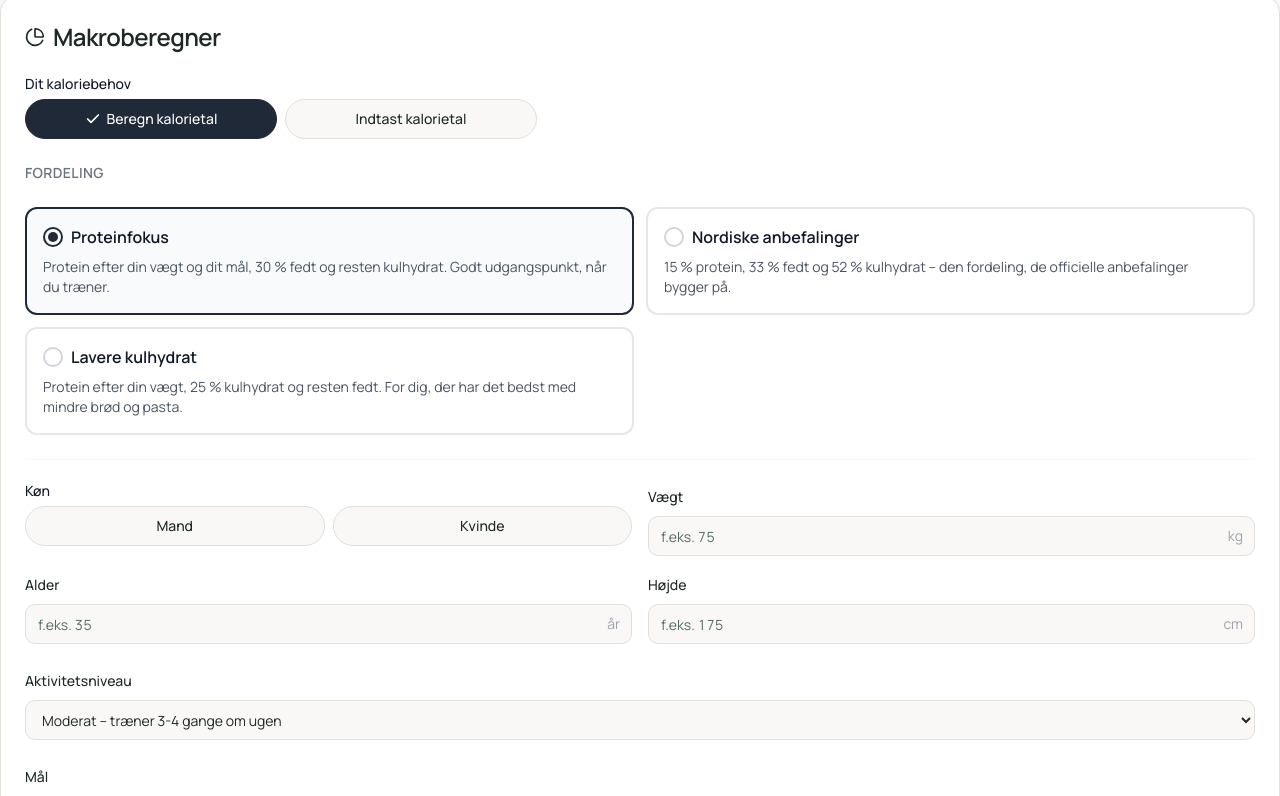
MacroCalculator › splits a known calorie target into grams and per-meal portions
Click the button "Indtast kalorietal" at (411, 119), box [285,99,537,139]
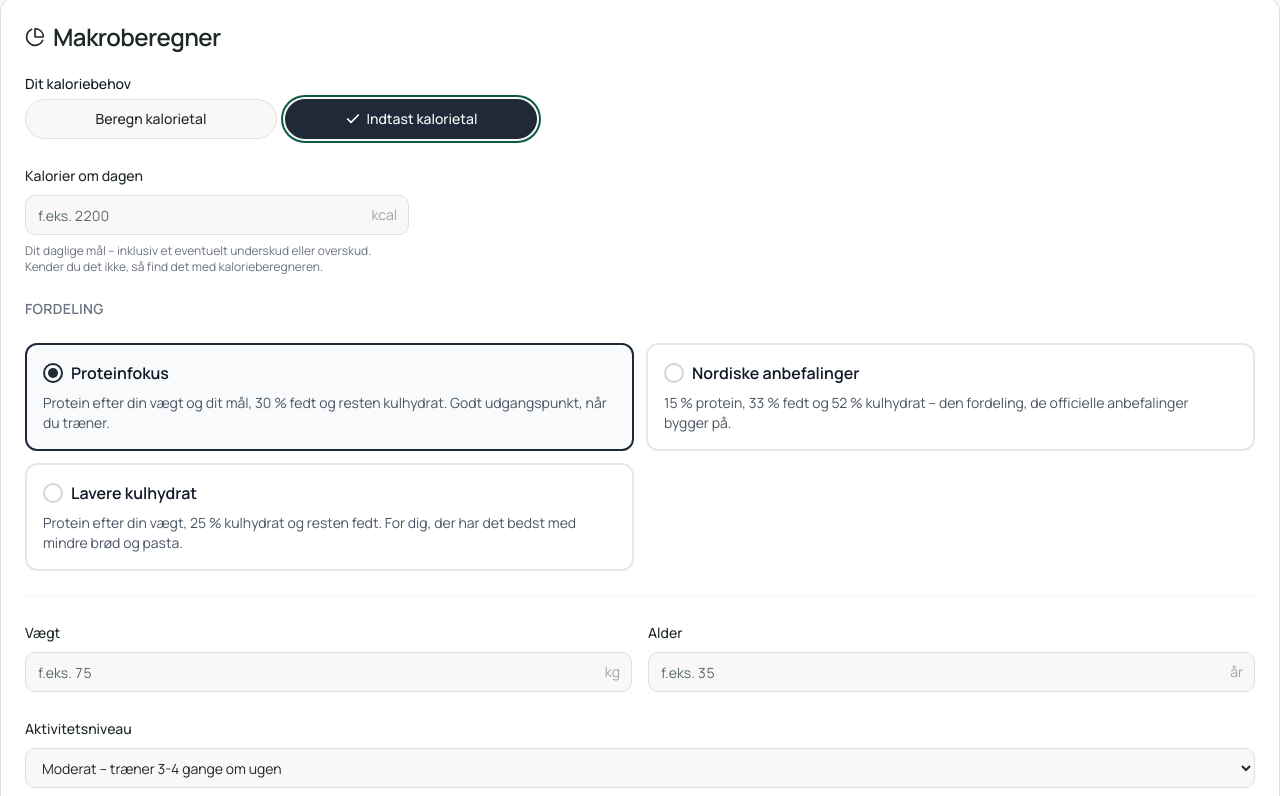
Type "2500" into the field labelled "Kalorier om dagen" at (217, 215), box [25,195,409,235]
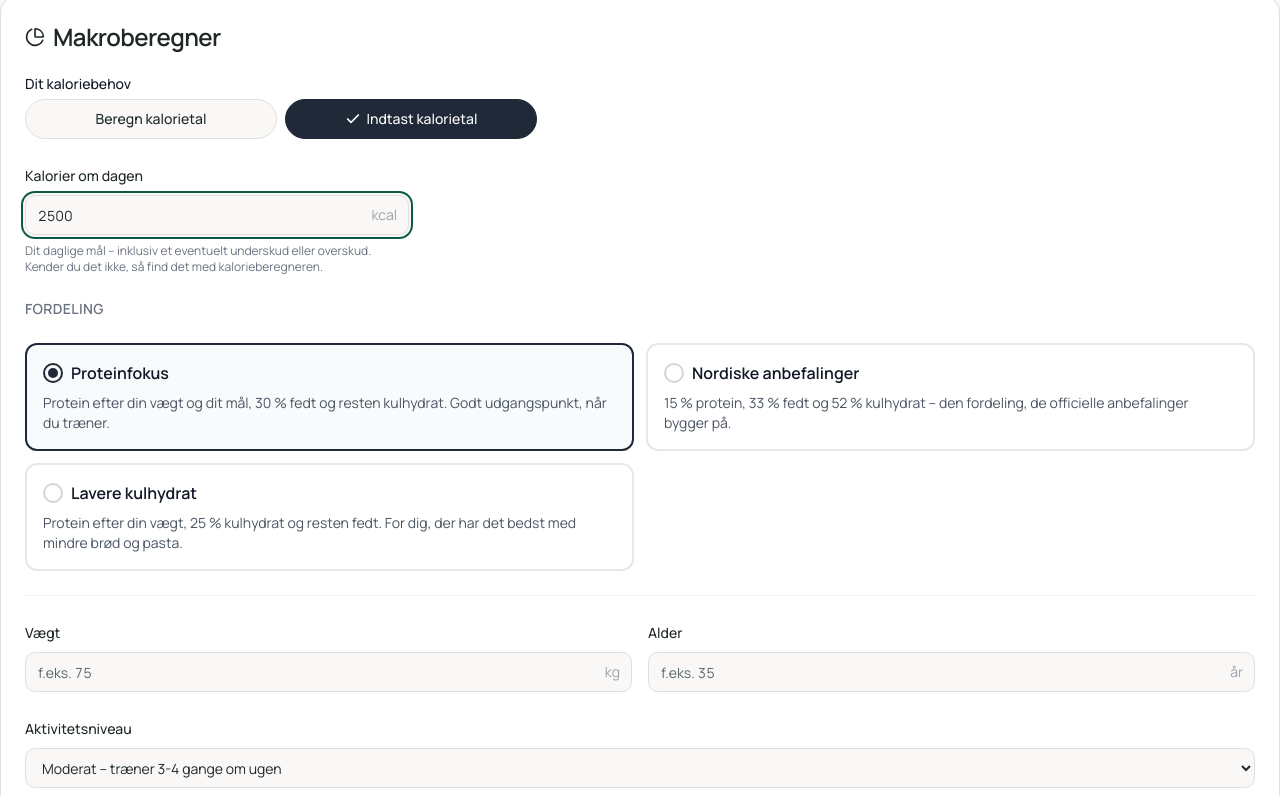
Type "80" into the field labelled "Vægt" at (328, 672), box [25,652,632,692]
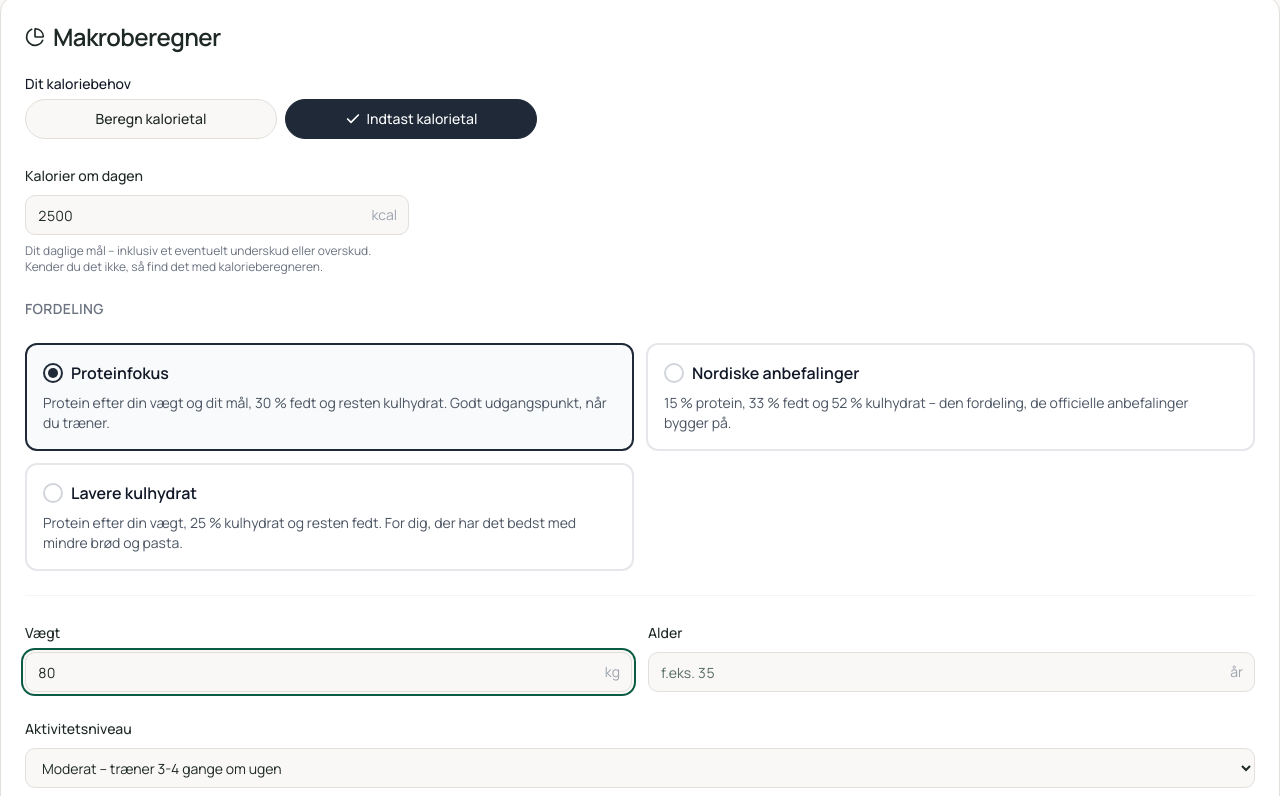
Type "30" into the field labelled "Alder" at (952, 672), box [648,652,1255,692]
(page scrolled)
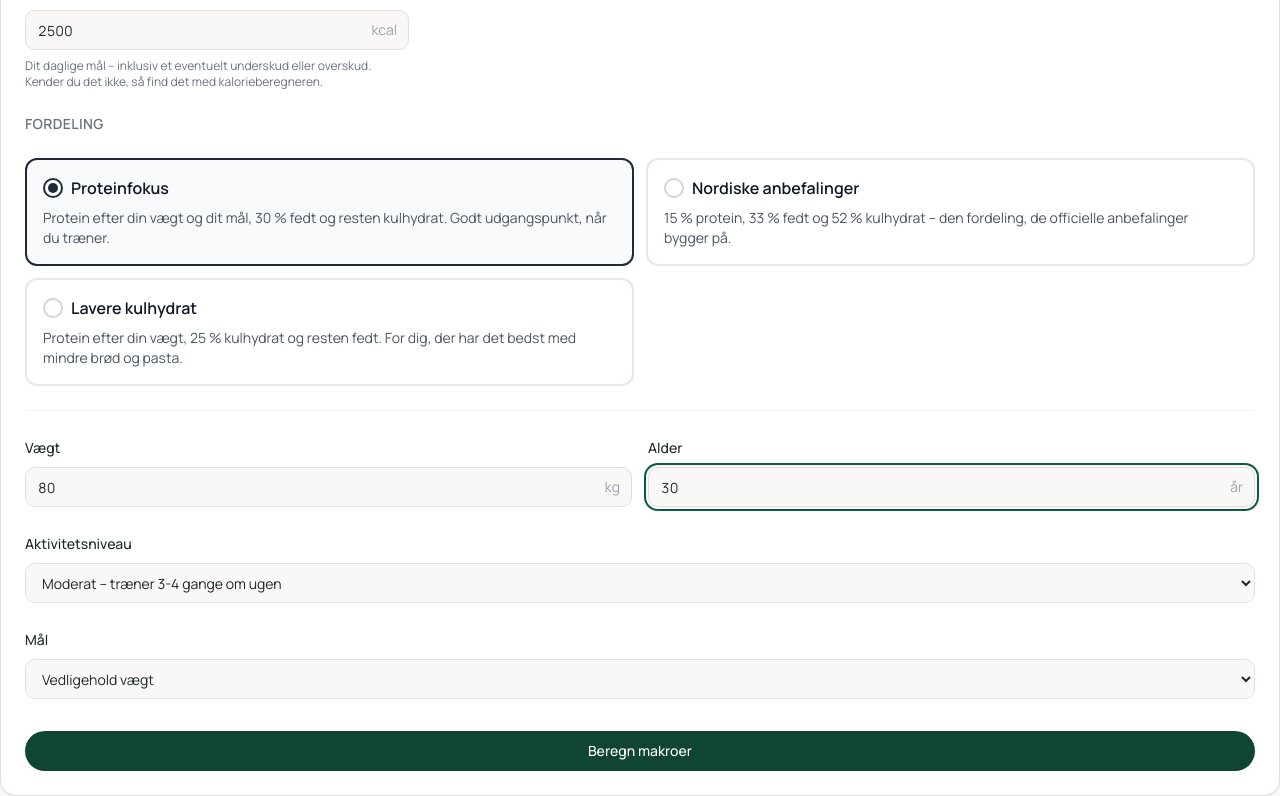
Click the button "Beregn makroer" at (640, 751), box [25,731,1255,771]
(page scrolled)
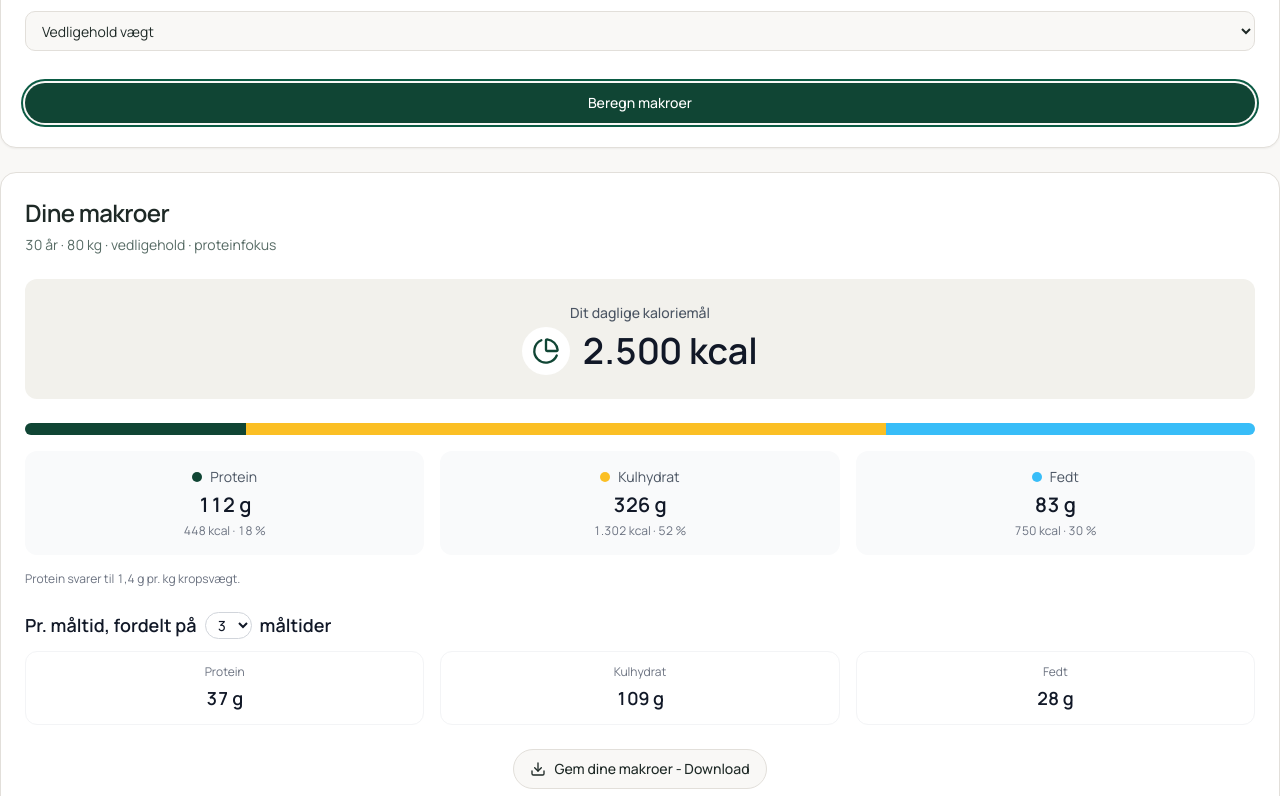
Result: the icon next to "2.500 kcal" is shown at [532,337,560,365]
Result: the text "112 g" is shown at [198,491,251,518]
Result: the text "326 g" is shown at [613,491,667,518]
Select "4" in the dropdown named "Måltider om dagen" at (228, 625), box [204,612,252,638]
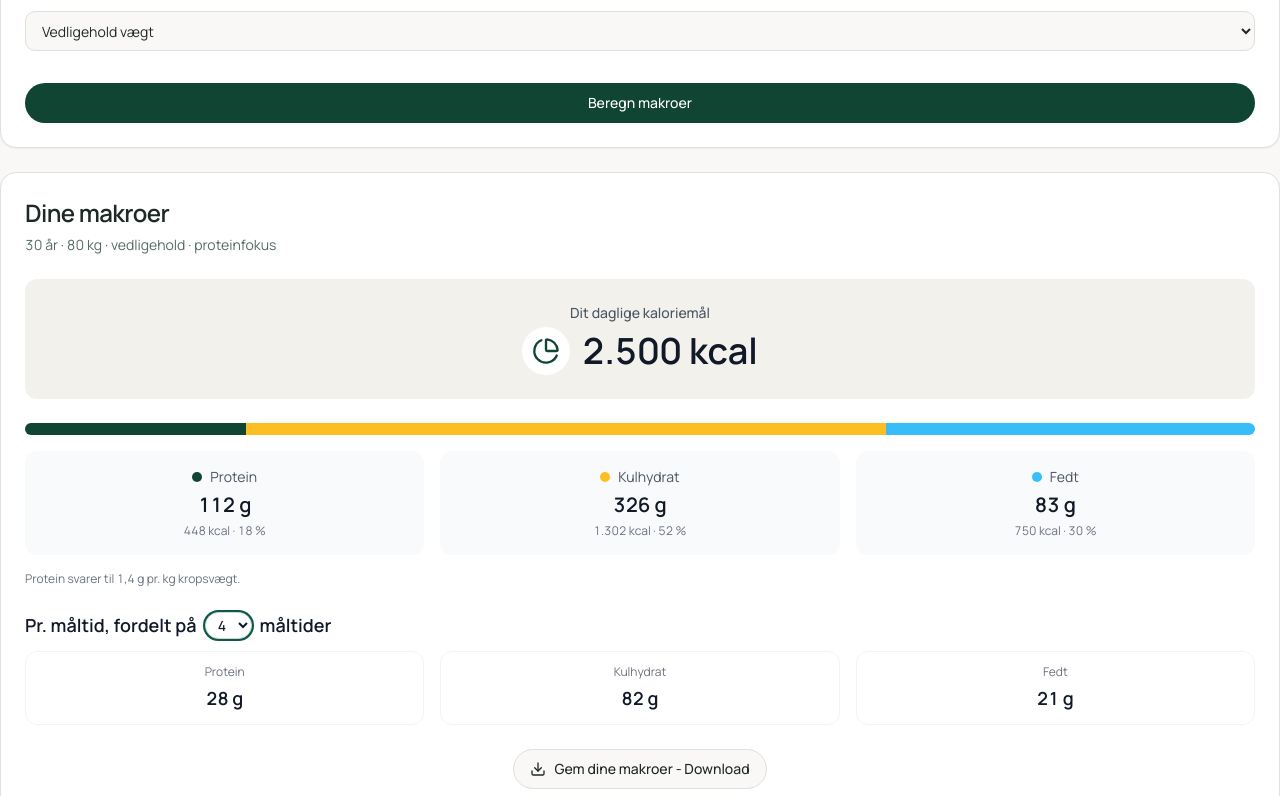
Result: the text with test id "per-meal-protein" reads "28 g" at [206,686,243,710]
